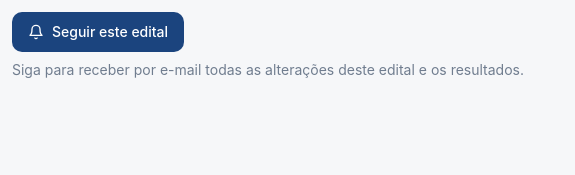
Test: Estado confirmado do acompanhamento › segue e deixa de seguir, atualizando a ficha e invalidando o painel
Click the button "Seguir este edital". click: (98, 32)
box: top-left (12, 12), bottom-right (184, 52)
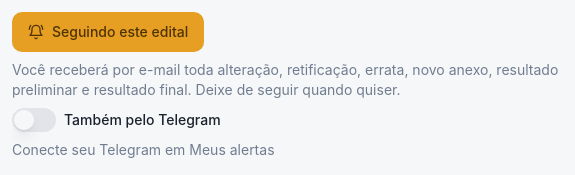
Check: the button "Seguindo este edital" is pressed
Click the button "Seguindo este edital". click: (108, 32)
box: top-left (12, 12), bottom-right (204, 52)
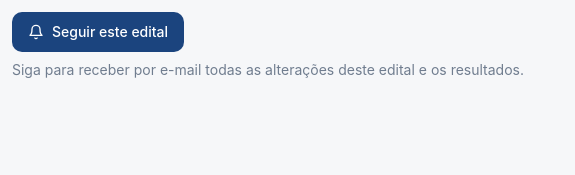
Check: the button "Seguir este edital" is not pressed, box top-left (12, 12), bottom-right (184, 52)
